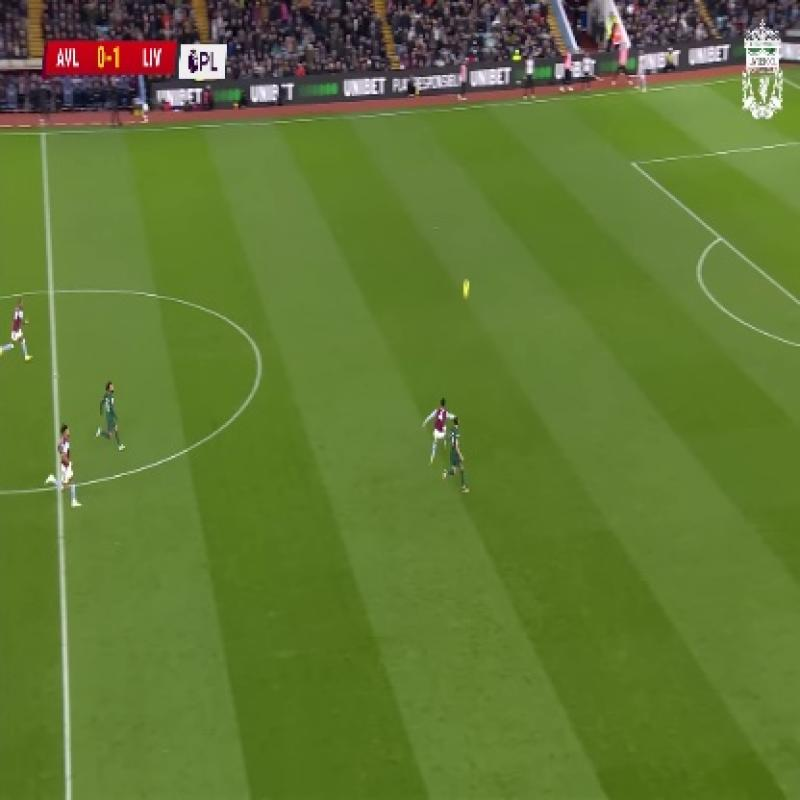10: (713, 228, 725, 246)
13: (35, 121, 50, 144)
14: (40, 279, 60, 304)
15: (46, 475, 72, 498)
9: (624, 154, 640, 173)
c: (244, 347, 276, 372)
